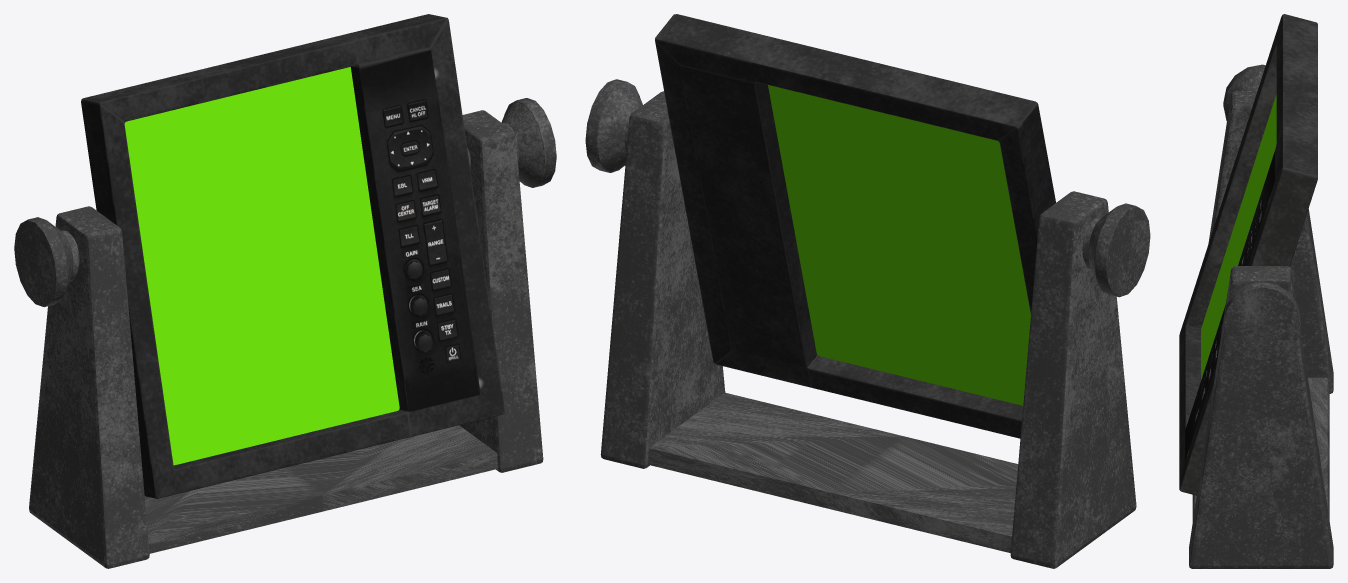
The model's file is radar_final.fbx.
3 renders of one model, left to right at view 1: azimuth 30°, elevation 25°; view 2: azimuth 150°, elevation 25°; view 3: azimuth 270°, elevation 25°, orthographic. The views are drawn at different scales.
Parts seen in each view (by area): view 1: pCube6, group2_pCylinder4, pCube7; view 2: group2_pCylinder4, pCube7, pCube6; view 3: group2_pCylinder4, pCube7, pCube6.
Part boxes in pixels (x1,y1,x2,y2): pCube6: (124, 67, 399, 465); group2_pCylinder4: (14, 98, 556, 568); pCube7: (81, 14, 504, 498); group2_pCylinder4: (585, 79, 1150, 568); pCube7: (655, 14, 1055, 438); pCube6: (768, 85, 1030, 405); group2_pCylinder4: (1189, 64, 1333, 568); pCube7: (1179, 14, 1317, 495); pCube6: (1201, 94, 1276, 380).
Bounding box in the file's own units: 50.4 × 40.32 × 14.77.
